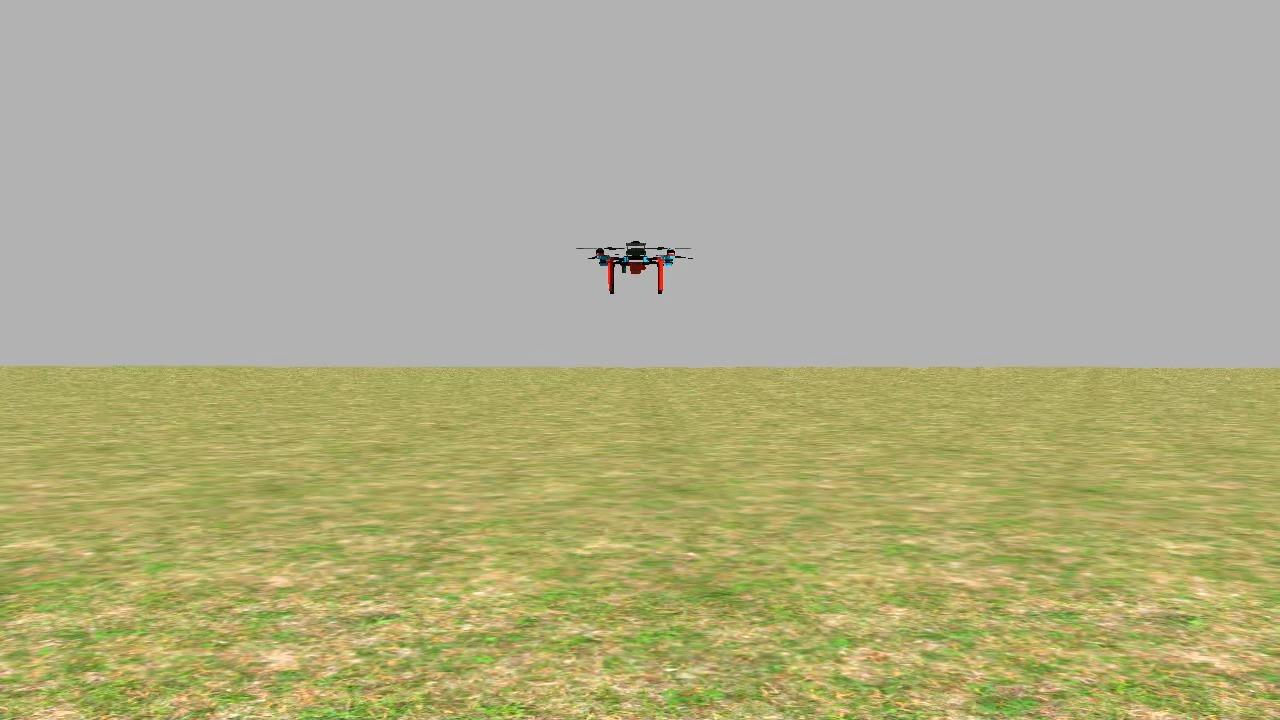UAV: (582, 230, 692, 302)
